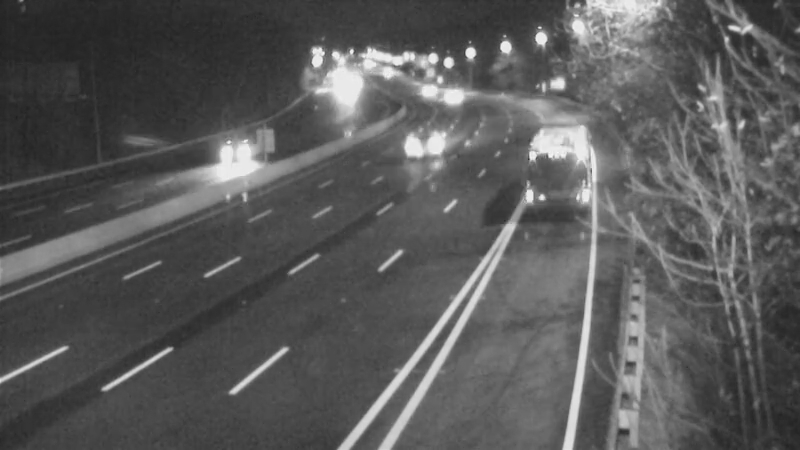vehicle: (188, 119, 268, 199), (402, 66, 452, 116), (425, 73, 475, 123), (530, 115, 580, 165), (400, 118, 450, 168), (316, 63, 366, 113)
